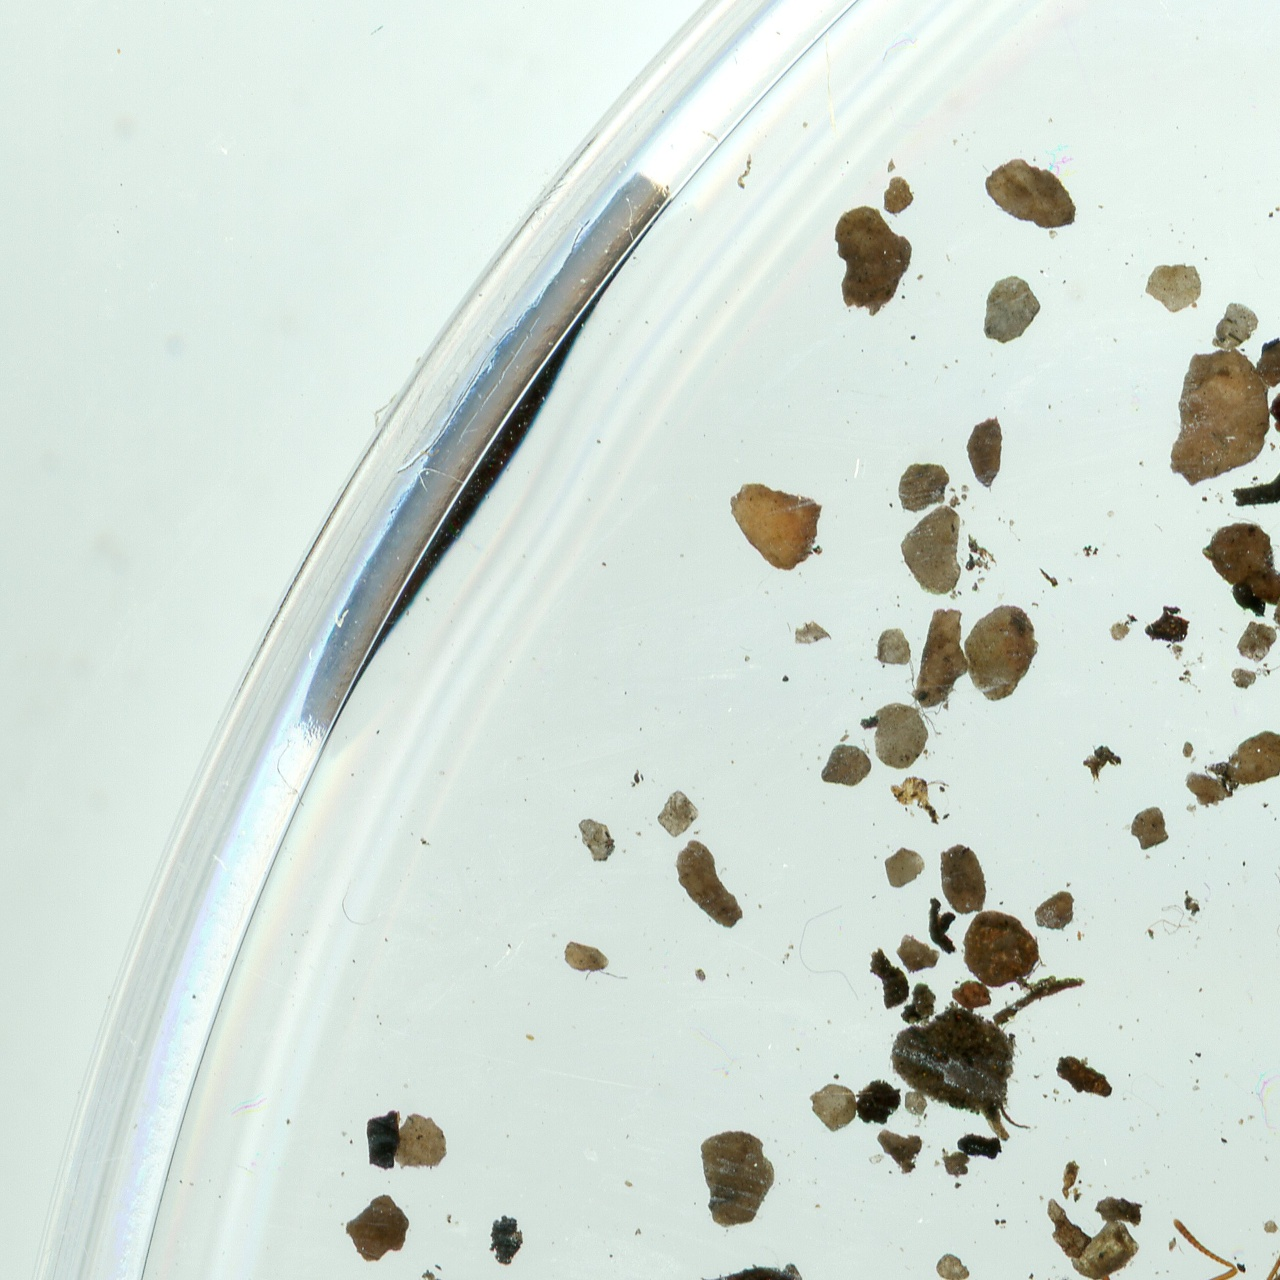arthropod: (1076, 1166, 1280, 1280)
